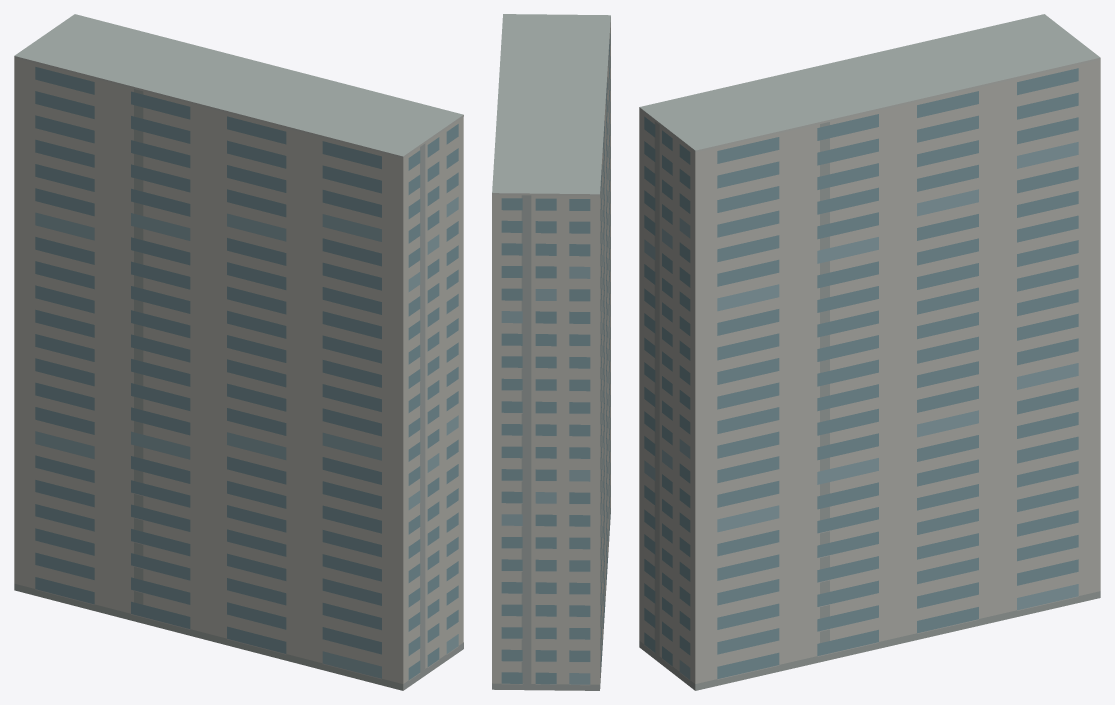
File: residential-def00b67-b27a-4ddd-8c22-7e3122a639d0.glb
The picture shows the model from 3 angles, left to right: view 1: azimuth 30°, elevation 25°; view 2: azimuth 150°, elevation 25°; view 3: azimuth 270°, elevation 25°; orthographic projection. The views are drawn at different scales.
Visible parts, largest first — view 1: residential-def00b67-b27a-4ddd-8c22-7e3122a639d0.tmp; view 2: residential-def00b67-b27a-4ddd-8c22-7e3122a639d0.tmp; view 3: residential-def00b67-b27a-4ddd-8c22-7e3122a639d0.tmp.
Part boxes in pixels (<box>): residential-def00b67-b27a-4ddd-8c22-7e3122a639d0.tmp: <box>14,14,463,690</box>; residential-def00b67-b27a-4ddd-8c22-7e3122a639d0.tmp: <box>492,14,610,690</box>; residential-def00b67-b27a-4ddd-8c22-7e3122a639d0.tmp: <box>639,14,1100,690</box>.
Size of the model in its own units: 34.17 by 63 by 48.75.
